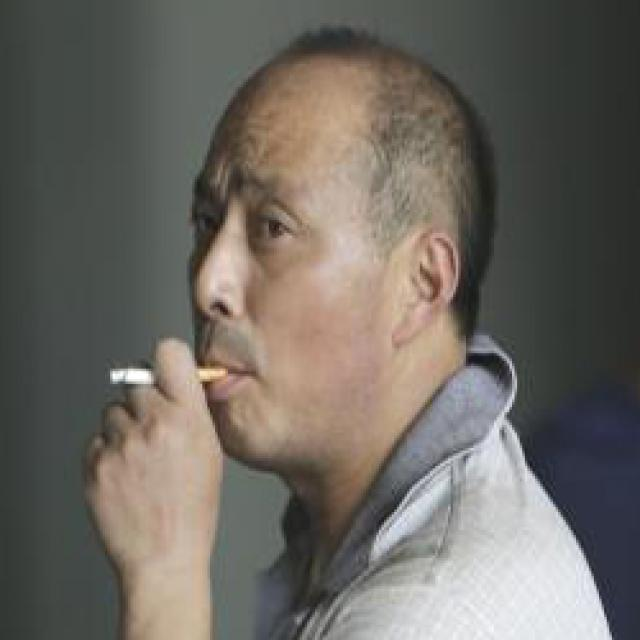Smooking: (90, 357, 239, 394)
